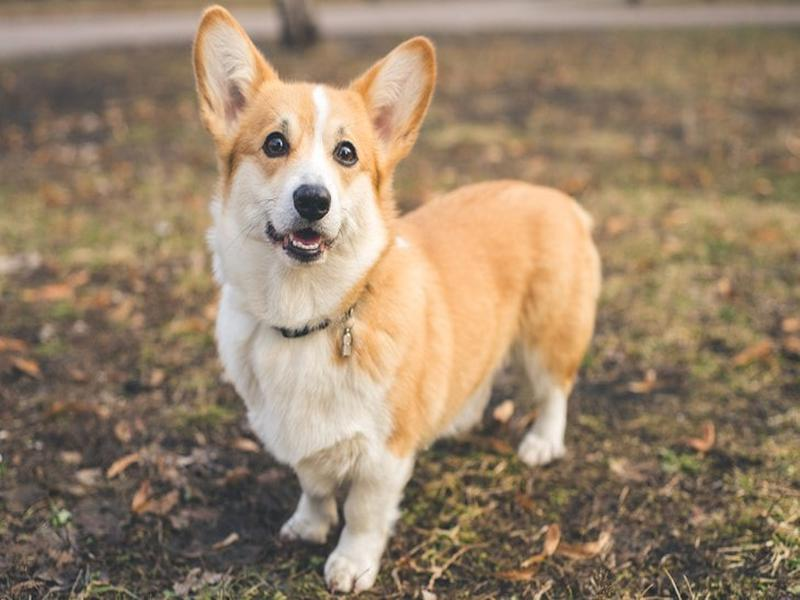corgi: (190, 4, 441, 269)
